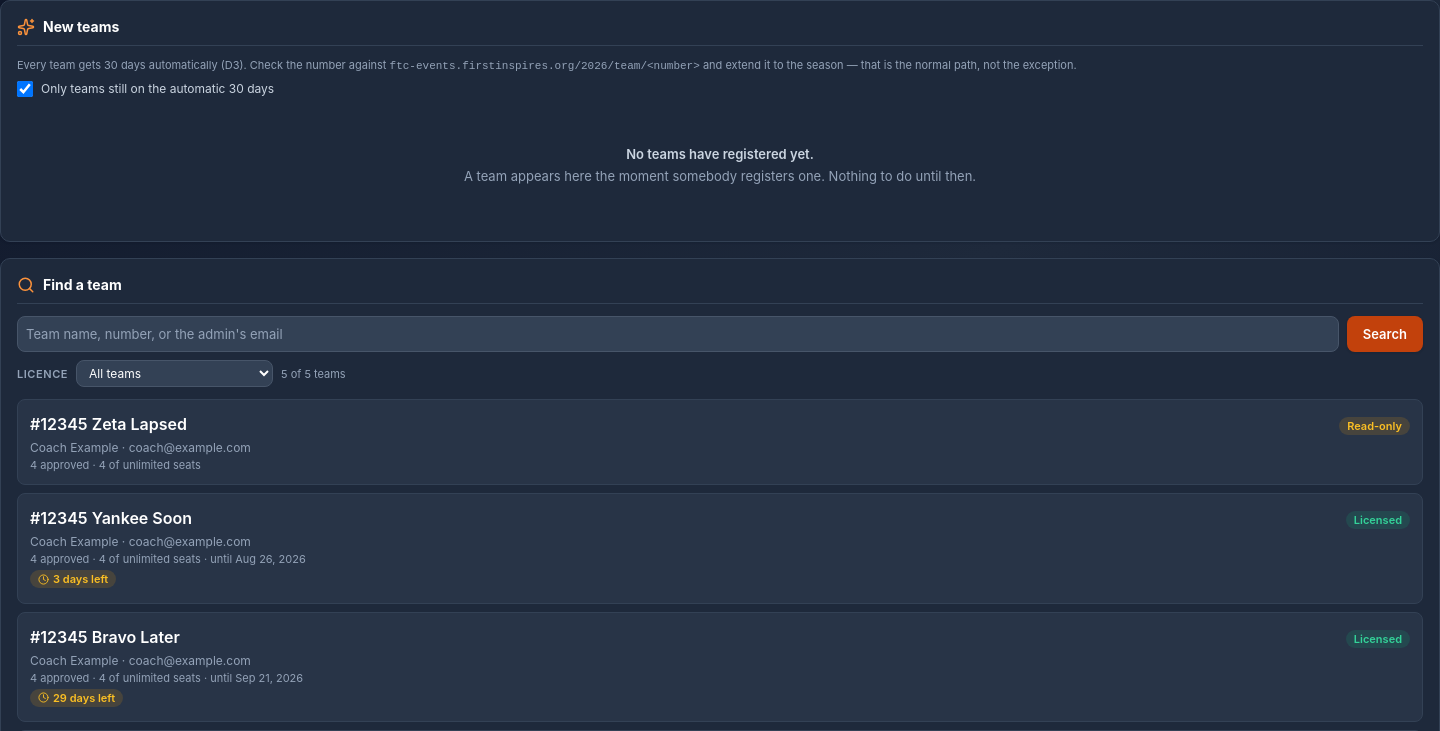
Scenario: the console actually uses them › the filter narrows the list and says how much it hid
Expected: the text with test id "operator-directory-count" shows "5 of 5", [281,366,346,380]
Select "Expiring in 30 days or fewer" in the dropdown with test id "operator-expiry-filter" at (174, 374), box [76,360,273,387]
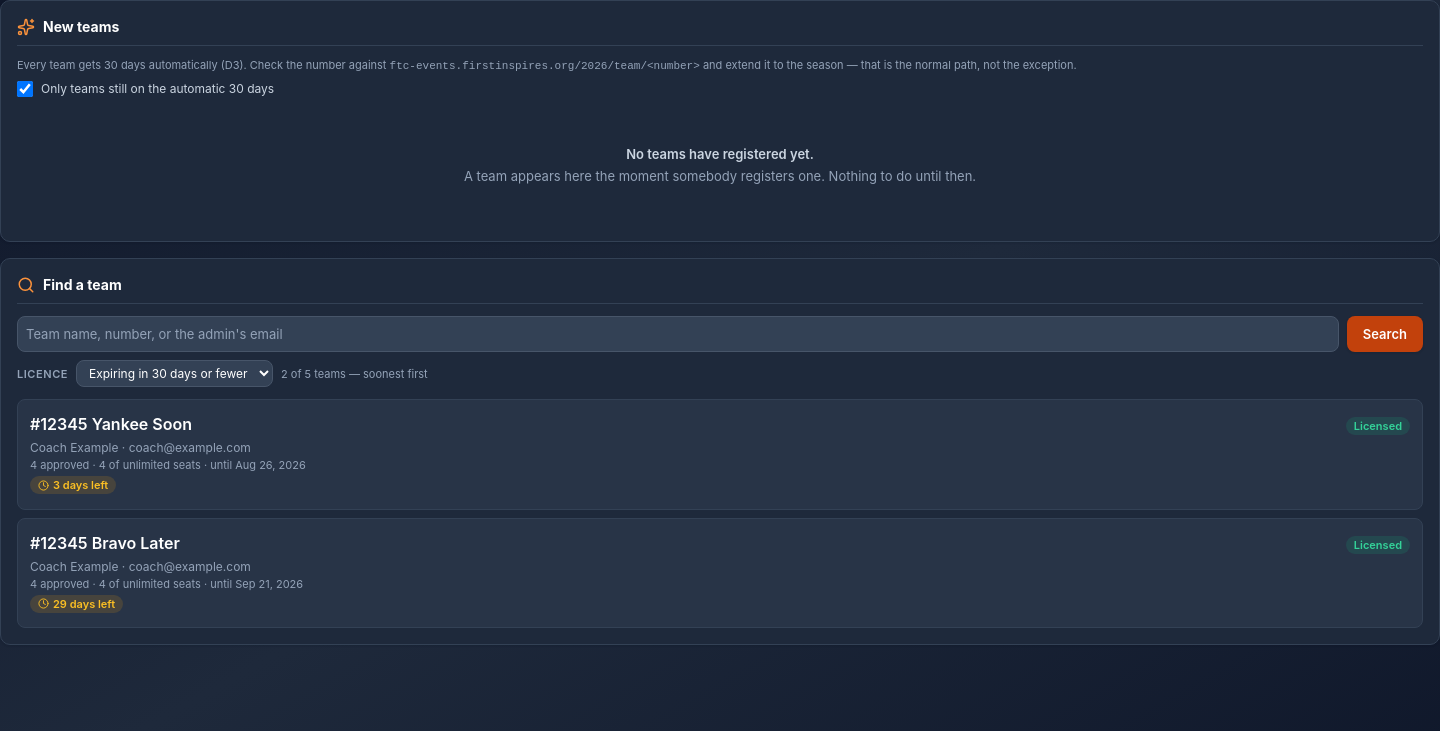
Result: the number of list items is 2 at [17,399,1423,510]; [17,518,1423,628]
Result: the text with test id "operator-directory-count" shows "2 of 5" at [281,366,428,380]
